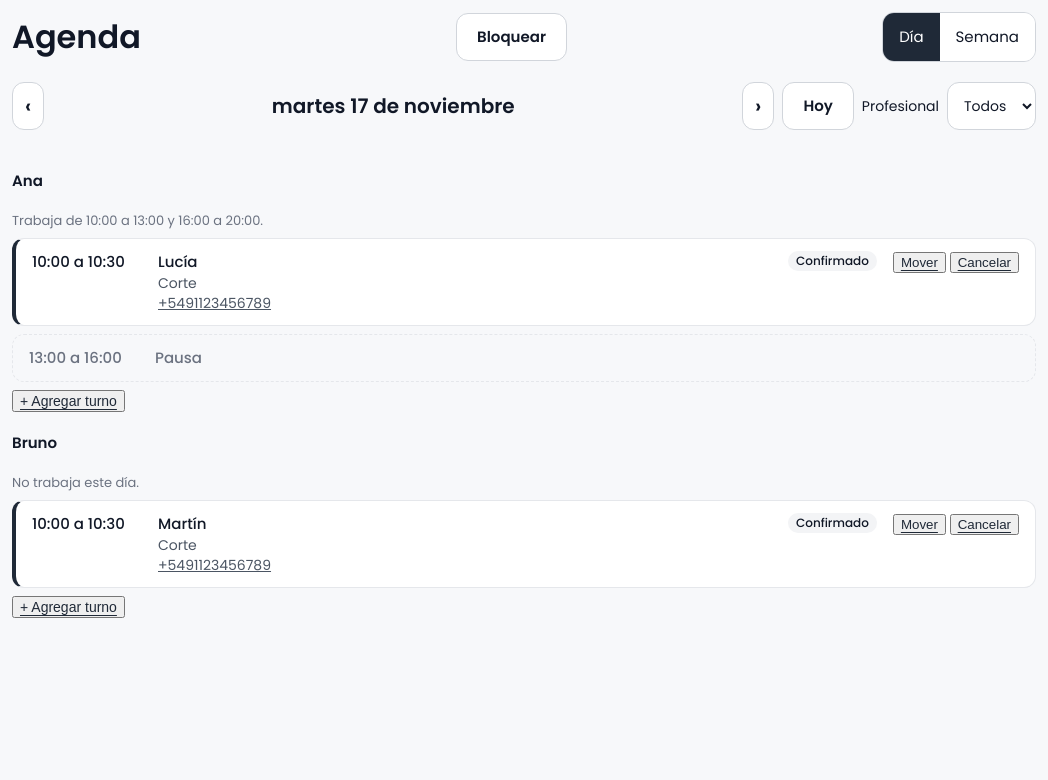
Agenda › HU-18 CA1: el admin ve a todos juntos y puede filtrar por uno; el profesional no tiene filtro
expect the heading "Ana" is shown: met, box top-left (12, 170), bottom-right (43, 191)
expect the heading "Bruno" is shown: met, box top-left (12, 432), bottom-right (57, 453)
Select "Bruno" in the dropdown labelled "Profesional" at (992, 106), box top-left (947, 82), bottom-right (1036, 130)
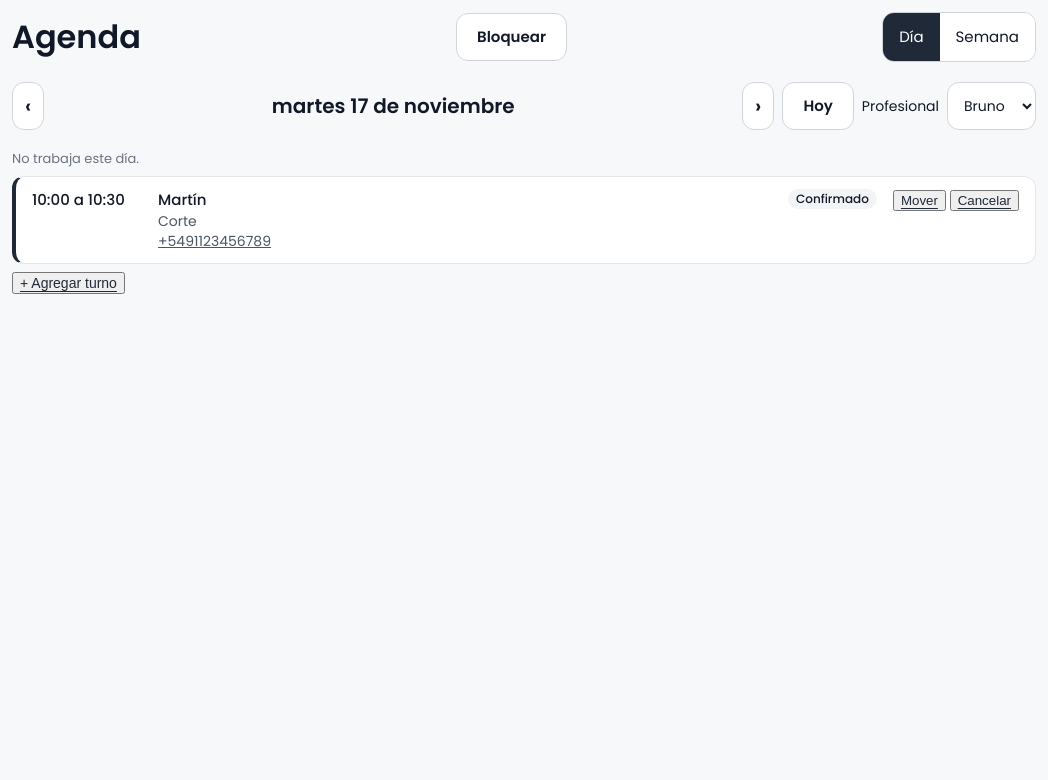
expect the text "Martín" is shown: met, box top-left (158, 189), bottom-right (206, 210)
expect the text "Lucía" is gone: met
